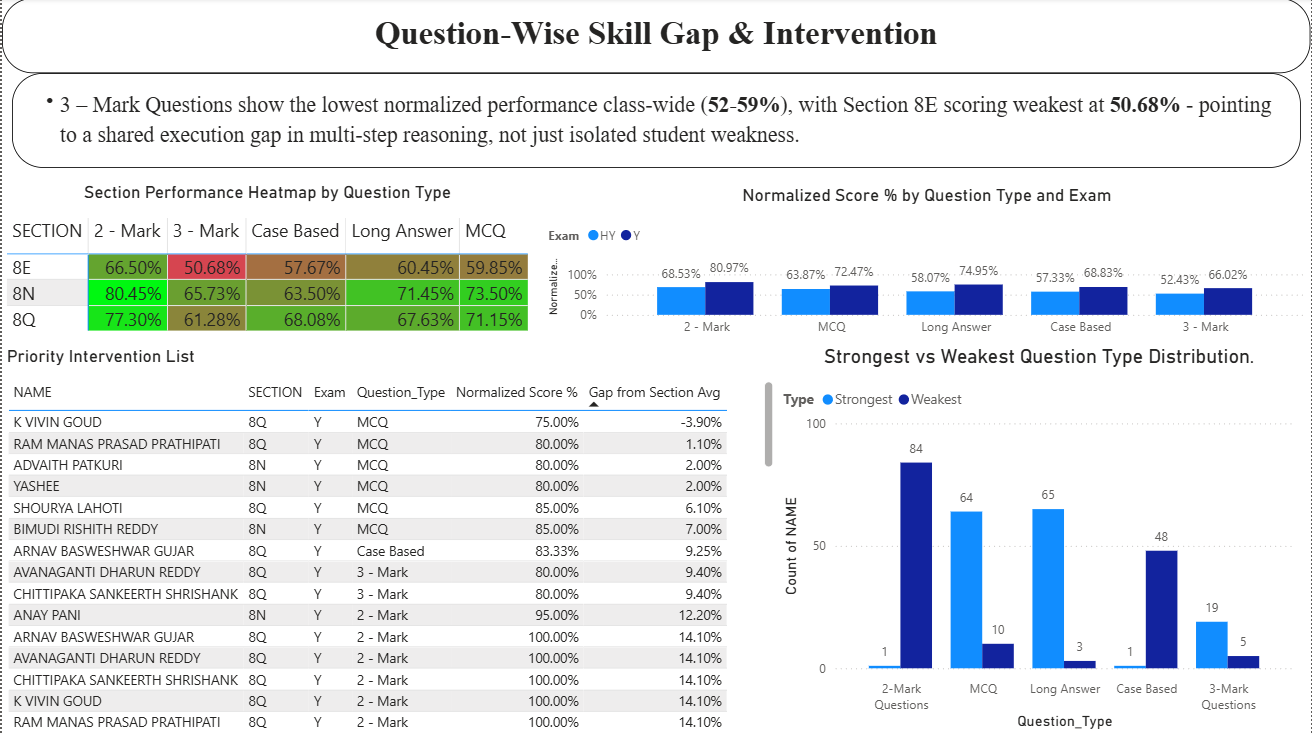

The dashboard page shown, as its layout file describes it:
{"tool":"powerbi","page":{"name":"Question-Wise Skill Gap & Intervention","canvas":[1280,720],"ordinal":3},"visuals":[{"type":"pivotTable","title":"Section Performance Heatmap by Question Type","fields":{"Rows":["question_analysis.SECTION"],"Columns":["question_analysis.Question_Type"],"Values":["question_analysis.Normalized Score %"]},"box":[0,179.8,519.7,179.8],"z":0},{"type":"clusteredColumnChart","title":"Normalized Score % by Question Type and Exam","fields":{"Category":["question_analysis.Question_Type"],"Series":["question_analysis.Exam"],"Y":["question_analysis.Normalized Score %"]},"box":[529.5,182.2,750.8,157.7],"z":1000},{"type":"clusteredColumnChart","title":"Strongest vs Weakest Question Type Distribution.","fields":{"Category":["strongest_weakest_section_analysis.Question_Type"],"Series":["strongest_weakest_section_analysis.Type"],"Y":["CountNonNull(strongest_weakest_section_analysis.NAME)"]},"box":[759.4,339.9,509.9,380.3],"z":2000},{"type":"tableEx","title":"Priority Intervention List","fields":{"Values":["question_analysis.NAME","question_analysis.SECTION","question_analysis.Exam","question_analysis.Question_Type","question_analysis.Normalized Score %","question_analysis.Gap from Section Avg"]},"box":[0,339.9,759.4,380.3],"z":3000},{"type":"textbox","box":[9.8,73.4,1260.7,92.9],"z":4000},{"type":"textbox","box":[0,0,1280.3,73.4],"z":5000}]}

Visuals, with their boxes in screenshot pixels (x1, y1, x2, y2), scaled from the page's 1280x720 canvas onto the 1312x733 screenshot:
"Section Performance Heatmap by Question Type" pivotTable: [0,183,533,366]
"Normalized Score % by Question Type and Exam" clusteredColumnChart: [543,185,1311,346]
"Strongest vs Weakest Question Type Distribution." clusteredColumnChart: [778,346,1301,732]
"Priority Intervention List" tableEx: [0,346,778,732]
textbox: [10,75,1302,169]
textbox: [0,0,1311,75]
